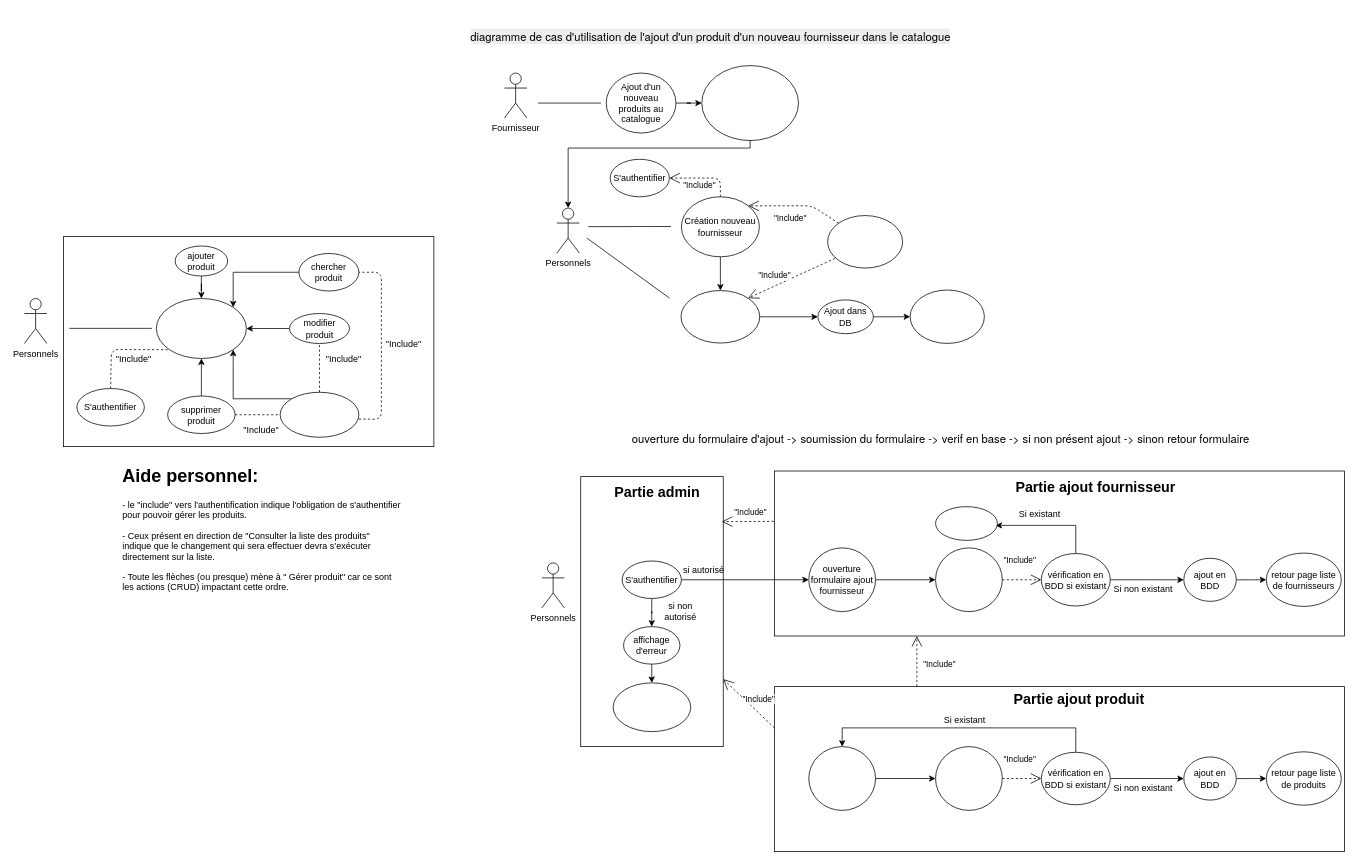
Some shapes in this 1358 by 865 pixel diagram are drawn without their labels. Here are the shapes that lost their labels. From the top down, the centre of each, then its label:
At [750,103]: "Prise de contact avec des commerciaux pour mise en vente".
At [865,241]: "Vérifier si déjà existant dans DB".
At [201,328]: "Gérer produits".
At [720,316]: "Ajout nouveau produit".
At [946,316]: "Mise en ligne dans liste des produits".
At [319,414]: "consulter la liste des produits".
At [966,523]: "Affichage erreur".
At [968,579]: "soumission formulaire ajout fournisseur".
At [651,707]: "retour a la page d'identification si refus".
At [842,778]: "ouverture formulaire ajout produit".
At [968,778]: "soumission formulaire ajout produit".
